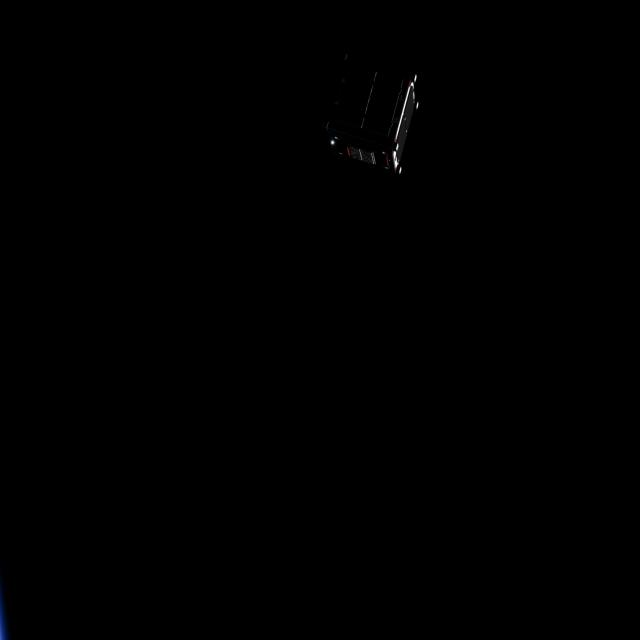satellite: (314, 45, 435, 174)
